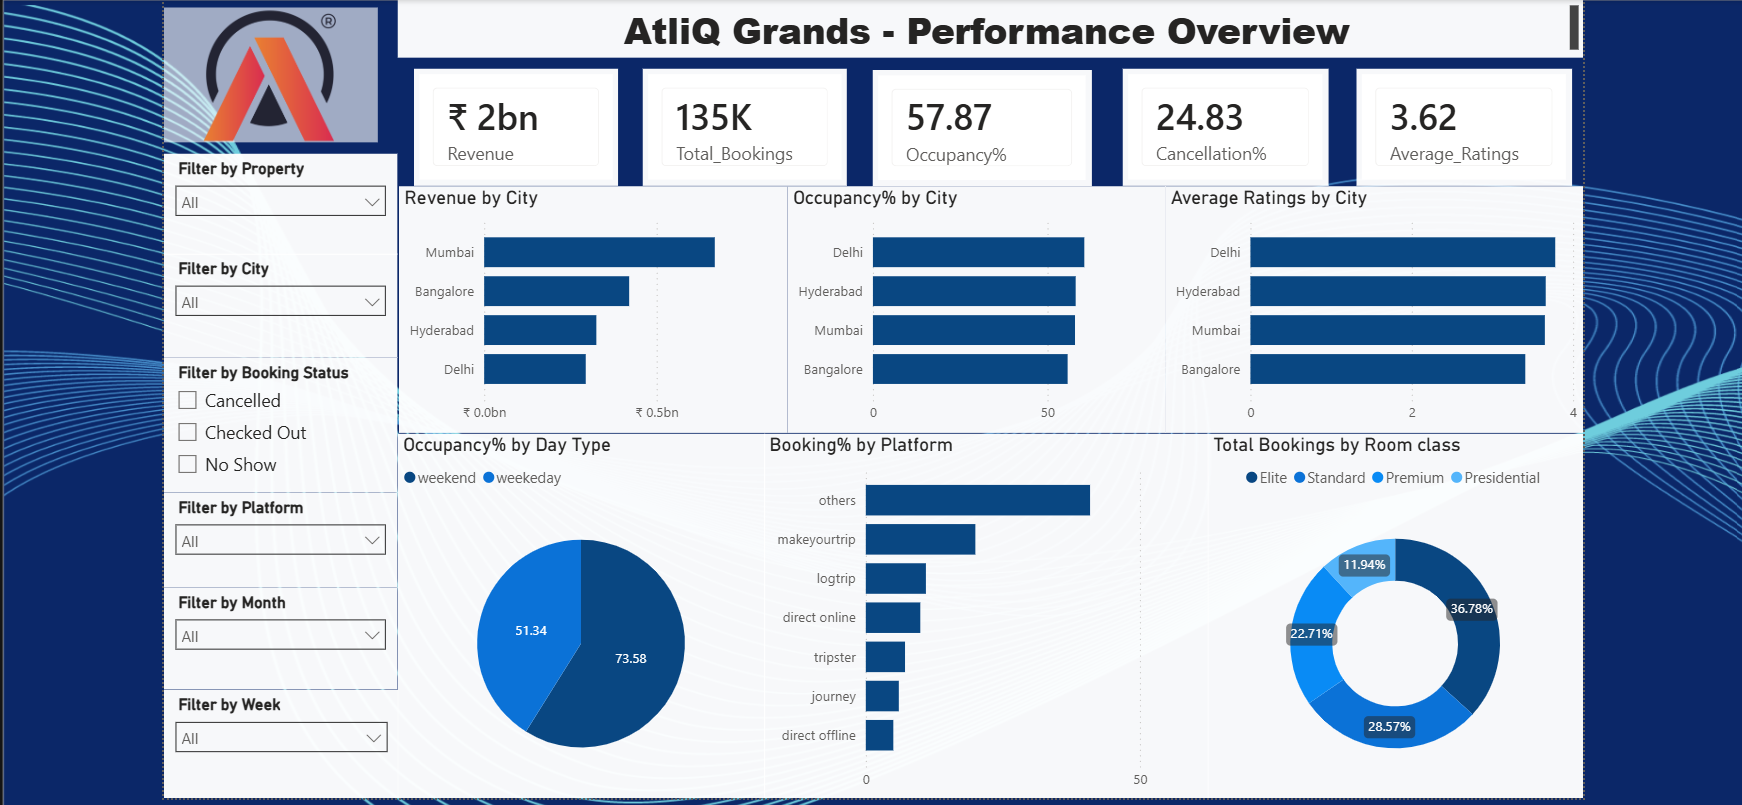

The dashboard page shown, as its layout file describes it:
{"tool":"powerbi","page":{"name":"Page 1","canvas":[1280,720],"ordinal":0},"visuals":[{"type":"cardVisual","fields":{"Data":["Key Measures.Revenue"]},"box":[225.2,62.2,184.1,105.7],"z":0},{"type":"slicer","fields":{"Values":["dim_hotels.property_name"]},"box":[0,138.1,210.2,90.8],"z":1000},{"type":"slicer","fields":{"Values":["dim_hotels.city"]},"box":[0,228.9,210.2,93.3],"z":2000},{"type":"slicer","fields":{"Values":["fact_bookings.booking_status"]},"box":[0,322.2,210.2,121.9],"z":3000},{"type":"slicer","fields":{"Values":["fact_bookings.booking_platform"]},"box":[0,444.1,210.2,85.8],"z":4000},{"type":"slicer","fields":{"Values":["dim_date.mmm_yy"]},"box":[0,529.9,210.2,92.1],"z":5000},{"type":"slicer","fields":{"Values":["dim_date.week_no"]},"box":[0,622,211.5,98.3],"z":6000},{"type":"cardVisual","fields":{"Data":["Key Measures.Occupancy%"]},"box":[639.4,63.4,197.8,104.5],"z":7000},{"type":"cardVisual","fields":{"Data":["Key Measures.Average_Ratings"]},"box":[1074.8,62.2,194.1,105.7],"z":8000},{"type":"barChart","title":"Revenue by City","fields":{"Y":["Key Measures.Revenue"],"Category":["dim_hotels.city"]},"box":[211.5,167.9,350.8,222.7],"z":9000},{"type":"barChart","title":"Occupancy% by City","fields":{"Category":["dim_hotels.city"],"Y":["Key Measures.Occupancy%"]},"box":[562.3,167.9,340.8,222.7],"z":10000},{"type":"barChart","title":"Average Ratings by City","fields":{"Y":["Key Measures.Average_Ratings"],"Category":["dim_hotels.city"]},"box":[903.1,167.9,376.9,222.7],"z":11000},{"type":"pieChart","title":"Occupancy% by Day Type","fields":{"Category":["dim_date.day_type"],"Y":["Key Measures.Occupancy%"]},"box":[210.2,390.6,330.9,329.6],"z":12000},{"type":"barChart","title":"Booking% by Platform","fields":{"Y":["Key Measures.Booking% by Platform"],"Category":["fact_bookings.booking_platform"]},"box":[541.1,390.6,400.6,329.6],"z":13000},{"type":"textbox","box":[210.2,0,1069.8,52.2],"z":14000},{"type":"cardVisual","fields":{"Data":["Key Measures.Cancellation%"]},"box":[864.6,62.2,185.3,105.7],"z":15000},{"type":"cardVisual","fields":{"Data":["Key Measures.Total_Bookings"]},"box":[431.7,62.2,184.1,105.7],"z":16000},{"type":"donutChart","fields":{"Category":["dim_rooms.room_class"],"Y":["Key Measures.Total_Bookings"]},"box":[941.7,390.6,338.4,329.6],"z":17000},{"type":"image","box":[0,6.2,192.8,121.9],"z":18000}]}

Visuals, with their boxes on the page's 1280x720 design canvas (x1, y1, x2, y2). These are canvas units, not pixel positions in the 1742x805 screenshot, which may show the page scaled, cropped or inside an application window:
cardVisual - Key Measures.Revenue: [x1=225, y1=62, x2=409, y2=168]
slicer - dim_hotels.property_name: [x1=0, y1=138, x2=210, y2=229]
slicer - dim_hotels.city: [x1=0, y1=229, x2=210, y2=322]
slicer - fact_bookings.booking_status: [x1=0, y1=322, x2=210, y2=444]
slicer - fact_bookings.booking_platform: [x1=0, y1=444, x2=210, y2=530]
slicer - dim_date.mmm_yy: [x1=0, y1=530, x2=210, y2=622]
slicer - dim_date.week_no: [x1=0, y1=622, x2=212, y2=720]
cardVisual - Key Measures.Occupancy%: [x1=639, y1=63, x2=837, y2=168]
cardVisual - Key Measures.Average_Ratings: [x1=1075, y1=62, x2=1269, y2=168]
"Revenue by City" barChart: [x1=212, y1=168, x2=562, y2=391]
"Occupancy% by City" barChart: [x1=562, y1=168, x2=903, y2=391]
"Average Ratings by City" barChart: [x1=903, y1=168, x2=1280, y2=391]
"Occupancy% by Day Type" pieChart: [x1=210, y1=391, x2=541, y2=720]
"Booking% by Platform" barChart: [x1=541, y1=391, x2=942, y2=720]
textbox: [x1=210, y1=0, x2=1280, y2=52]
cardVisual - Key Measures.Cancellation%: [x1=865, y1=62, x2=1050, y2=168]
cardVisual - Key Measures.Total_Bookings: [x1=432, y1=62, x2=616, y2=168]
donutChart - dim_rooms.room_class x Key Measures.Total_Bookings: [x1=942, y1=391, x2=1280, y2=720]
image: [x1=0, y1=6, x2=193, y2=128]
